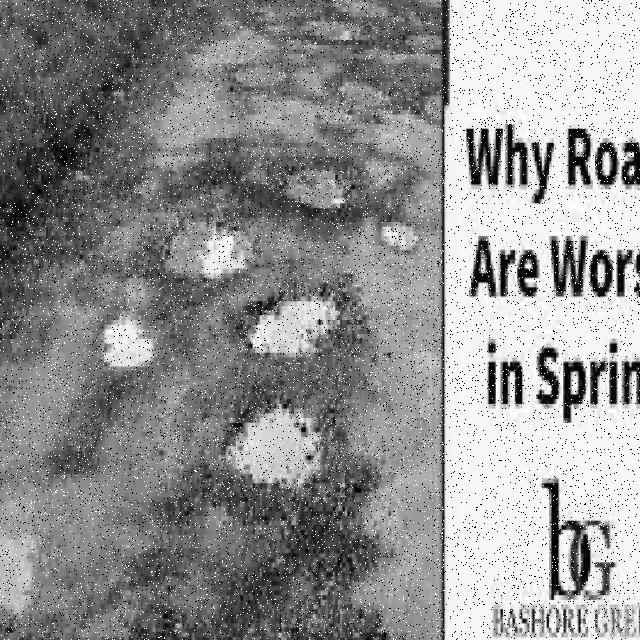pothole: (240, 409, 333, 488), (255, 297, 333, 362), (304, 0, 393, 45), (287, 171, 338, 213), (170, 222, 211, 273), (340, 77, 391, 110), (231, 68, 287, 96), (411, 35, 440, 63)
